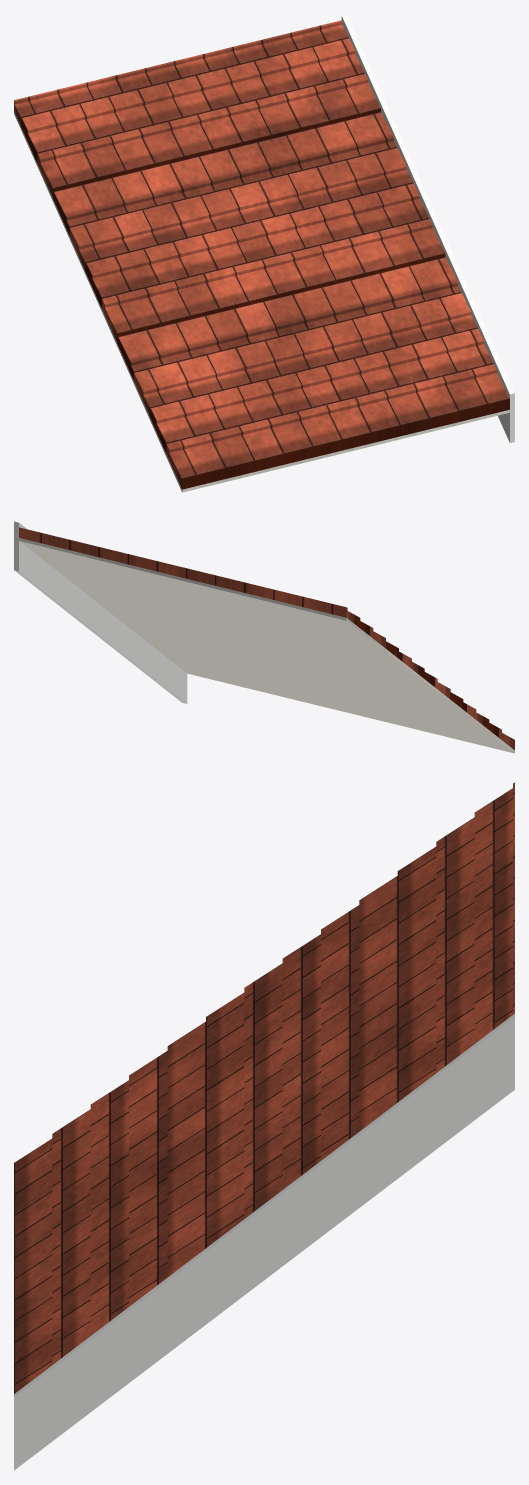
The model's file is groof_wall_b.glb.
3 views of the same model, one above another, from view 1: azimuth 30°, elevation 25°; view 2: azimuth 150°, elevation 25°; view 3: azimuth 270°, elevation 25° (orthographic). The views are drawn at different scales.
Parts seen in each view (by area): view 1: groof_wall_b_shingles, groof_wall_b_trim, groof_wall_b_plaster; view 2: groof_wall_b_plaster, groof_wall_b_trim, groof_wall_b_shingles; view 3: groof_wall_b_shingles, groof_wall_b_trim.
Part boxes in pixels (bbox=[...]): groof_wall_b_shingles: bbox=[14, 20, 509, 489]; groof_wall_b_trim: bbox=[341, 14, 514, 442]; groof_wall_b_plaster: bbox=[14, 111, 509, 492]; groof_wall_b_plaster: bbox=[19, 538, 514, 753]; groof_wall_b_trim: bbox=[14, 521, 187, 703]; groof_wall_b_shingles: bbox=[19, 527, 514, 749]; groof_wall_b_shingles: bbox=[14, 782, 514, 1393]; groof_wall_b_trim: bbox=[14, 1013, 514, 1470].
Size of the model in its own units: 2.28 by 2 by 2.
3 materials, 2 textured.
